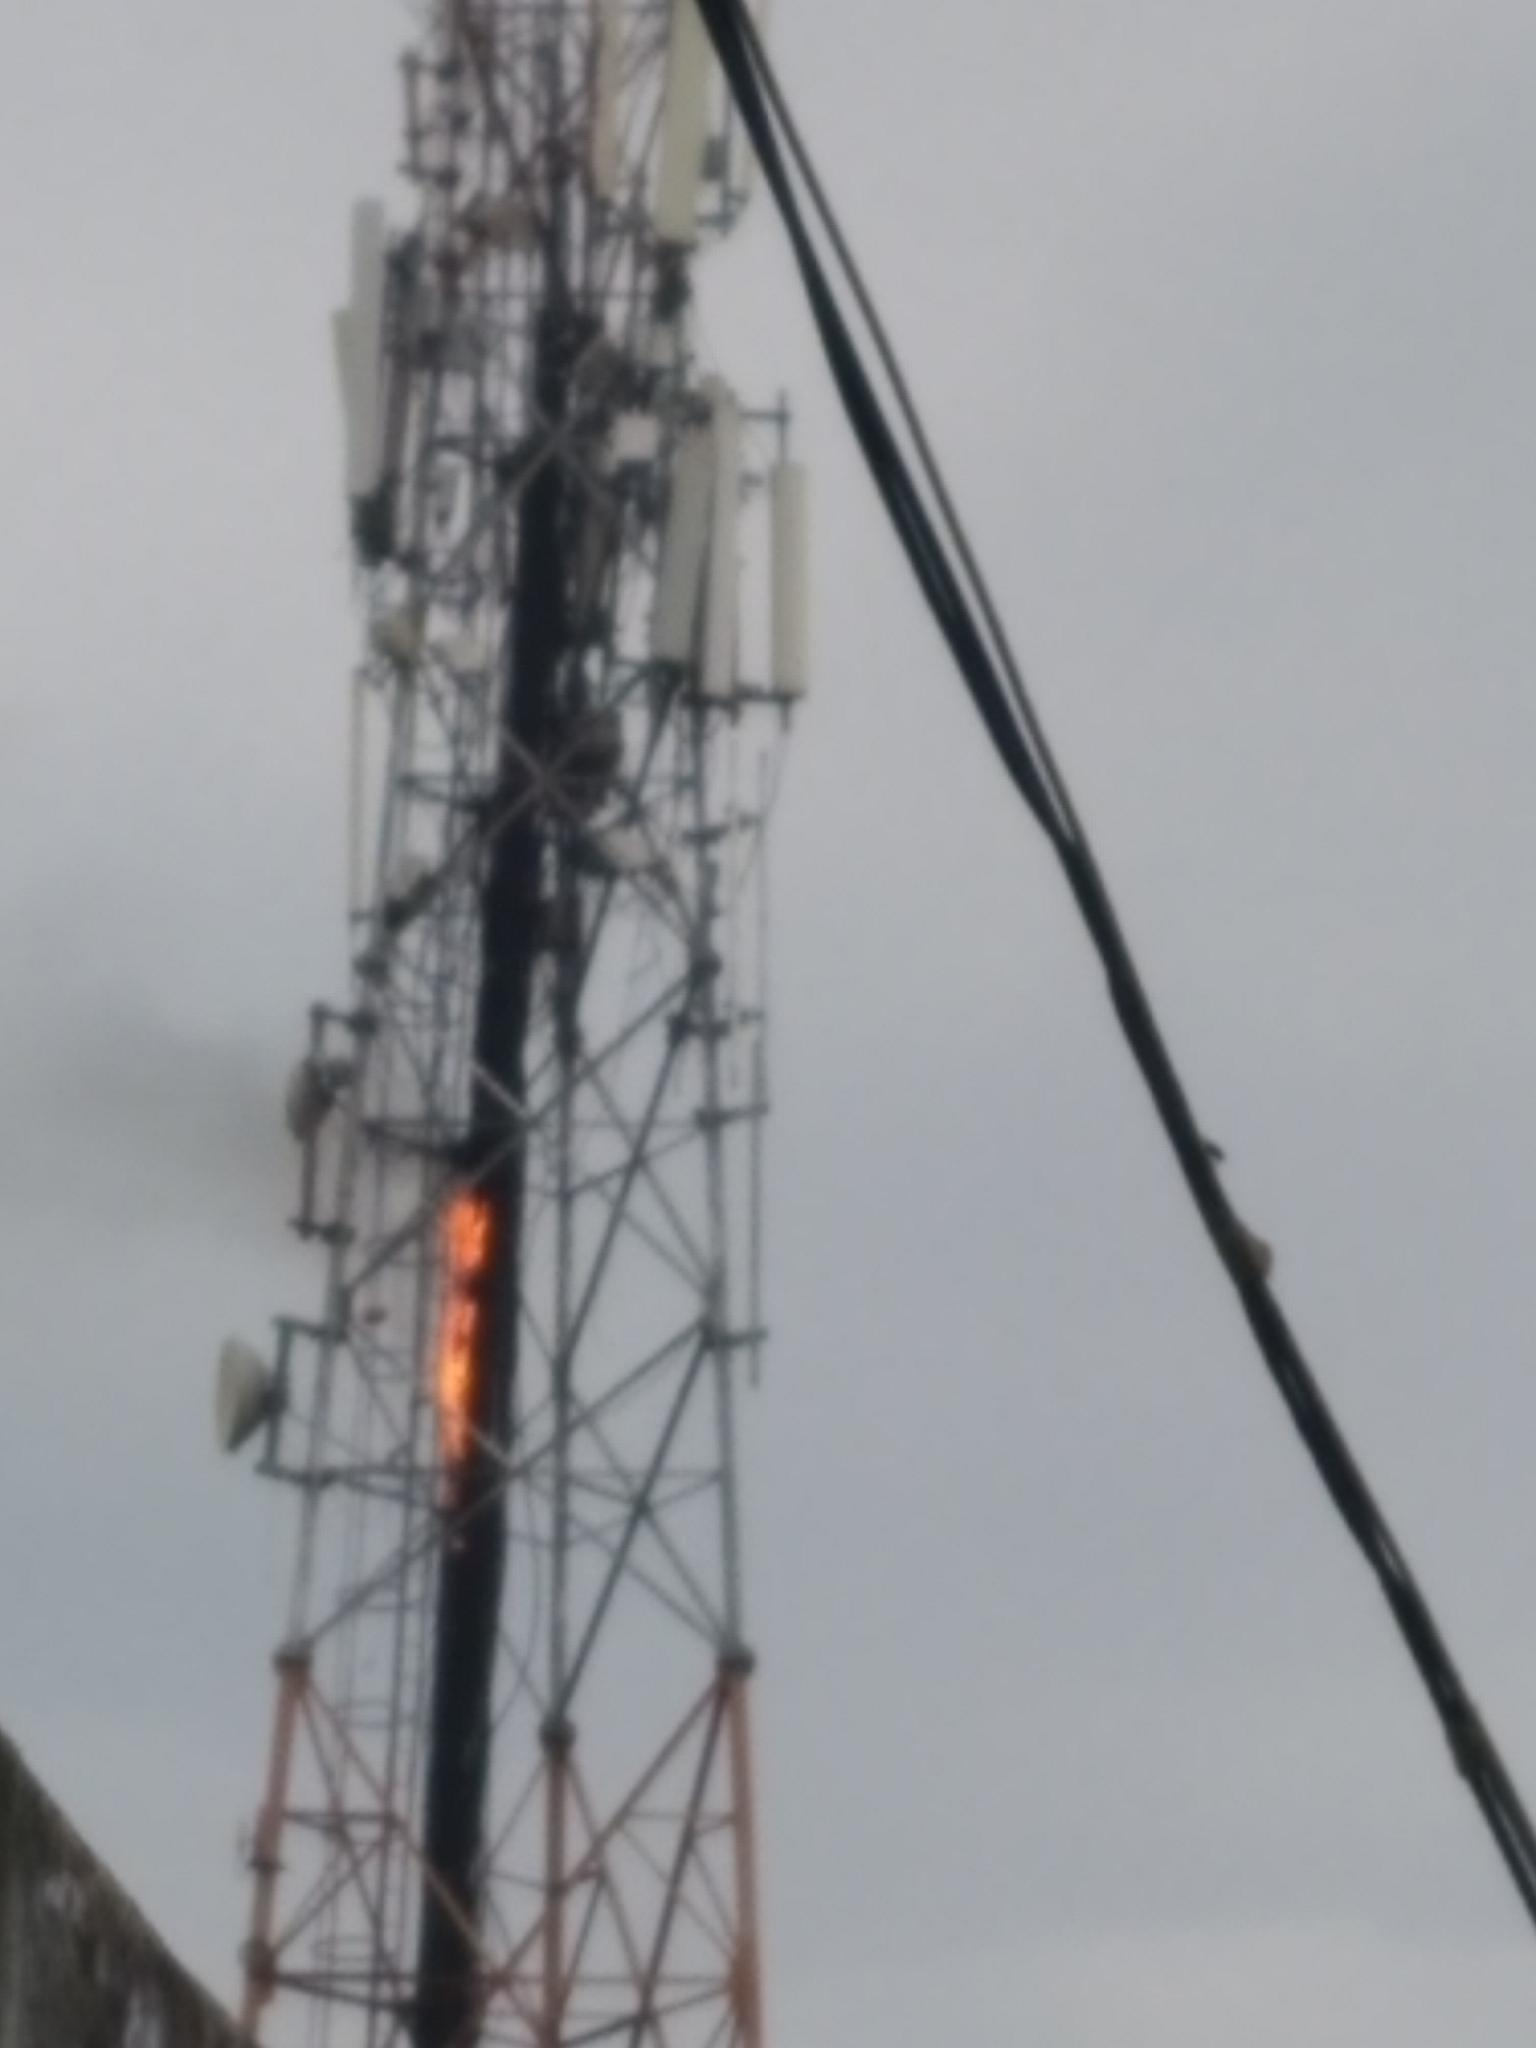Fire: (429, 1172, 497, 1429)
